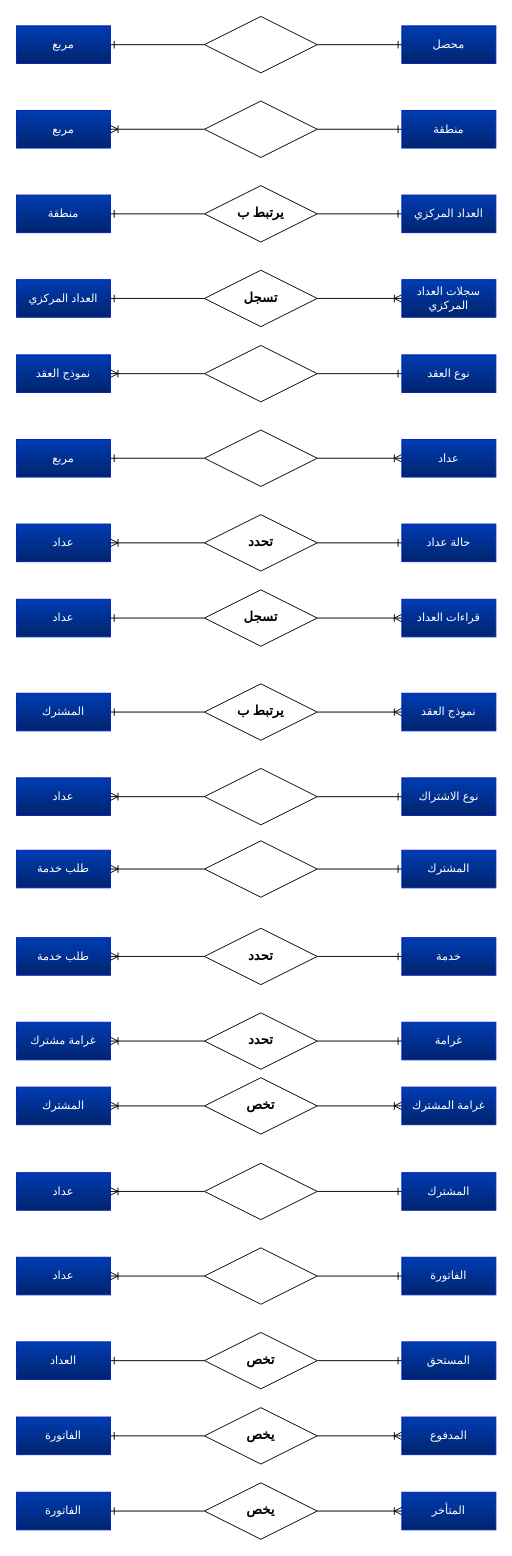
This 512x1556 diagram has some shape labels left out. The shapes that lost their labels are listed below. From the top down, each one's centre as x and y in pixels, then its label:
[260,44]: يعمل في
[260,128]: تحتوي
[260,373]: يحدد
[260,457]: يتبع
[260,796]: يعرف
[260,868]: يطلب
[260,1191]: يملك
[260,1275]: ترتبط ب
